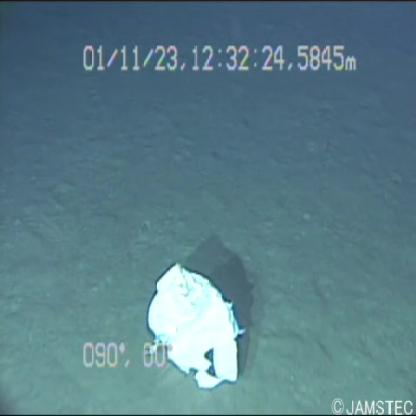Rác: (129, 258, 268, 395)
